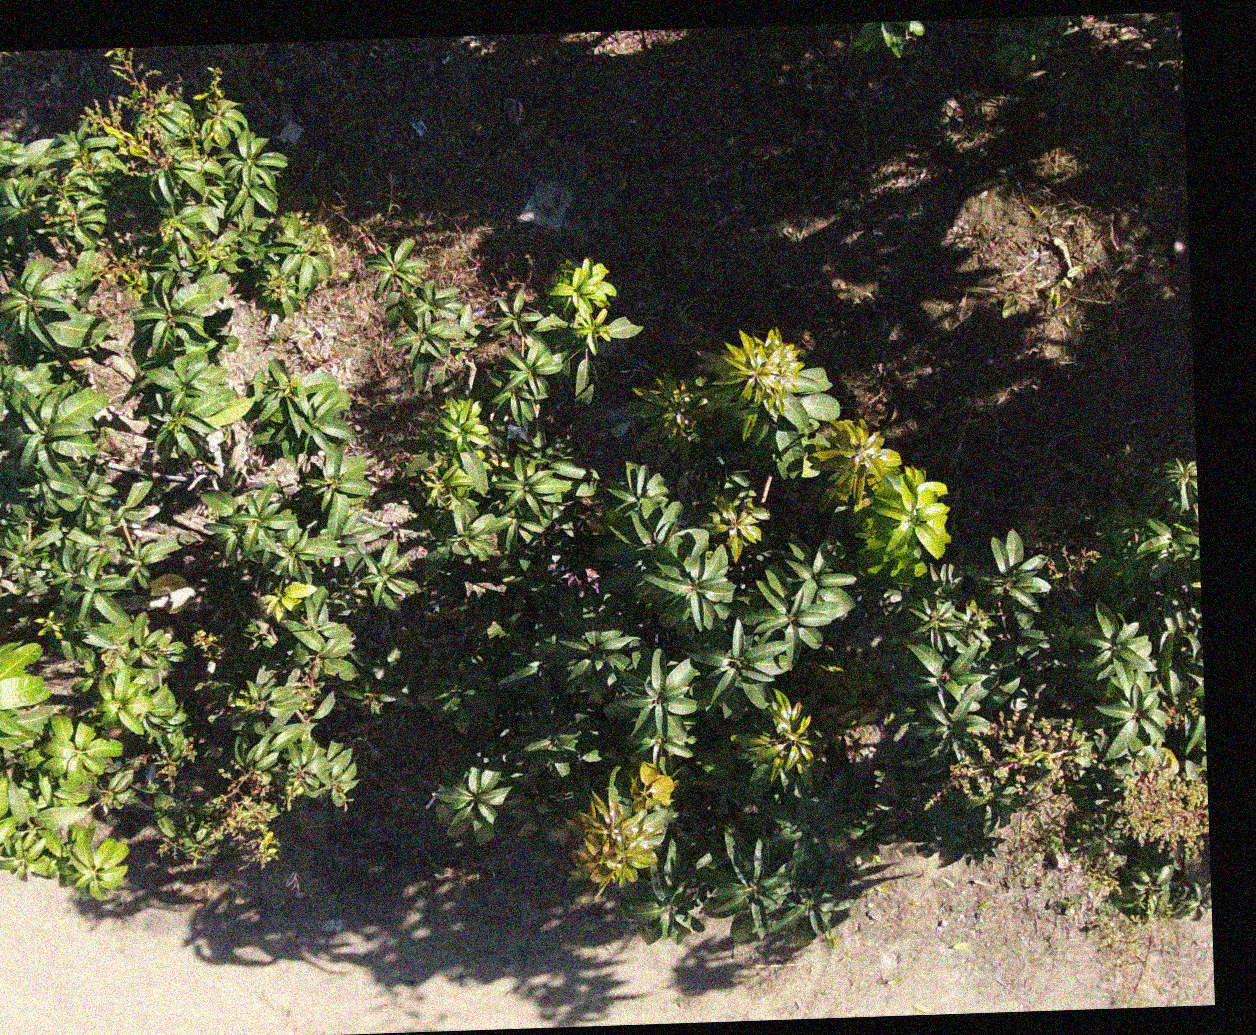flowers: (947, 711, 1094, 804), (1114, 759, 1207, 863), (210, 767, 277, 865), (922, 755, 990, 807), (294, 655, 323, 715), (559, 31, 615, 53)
